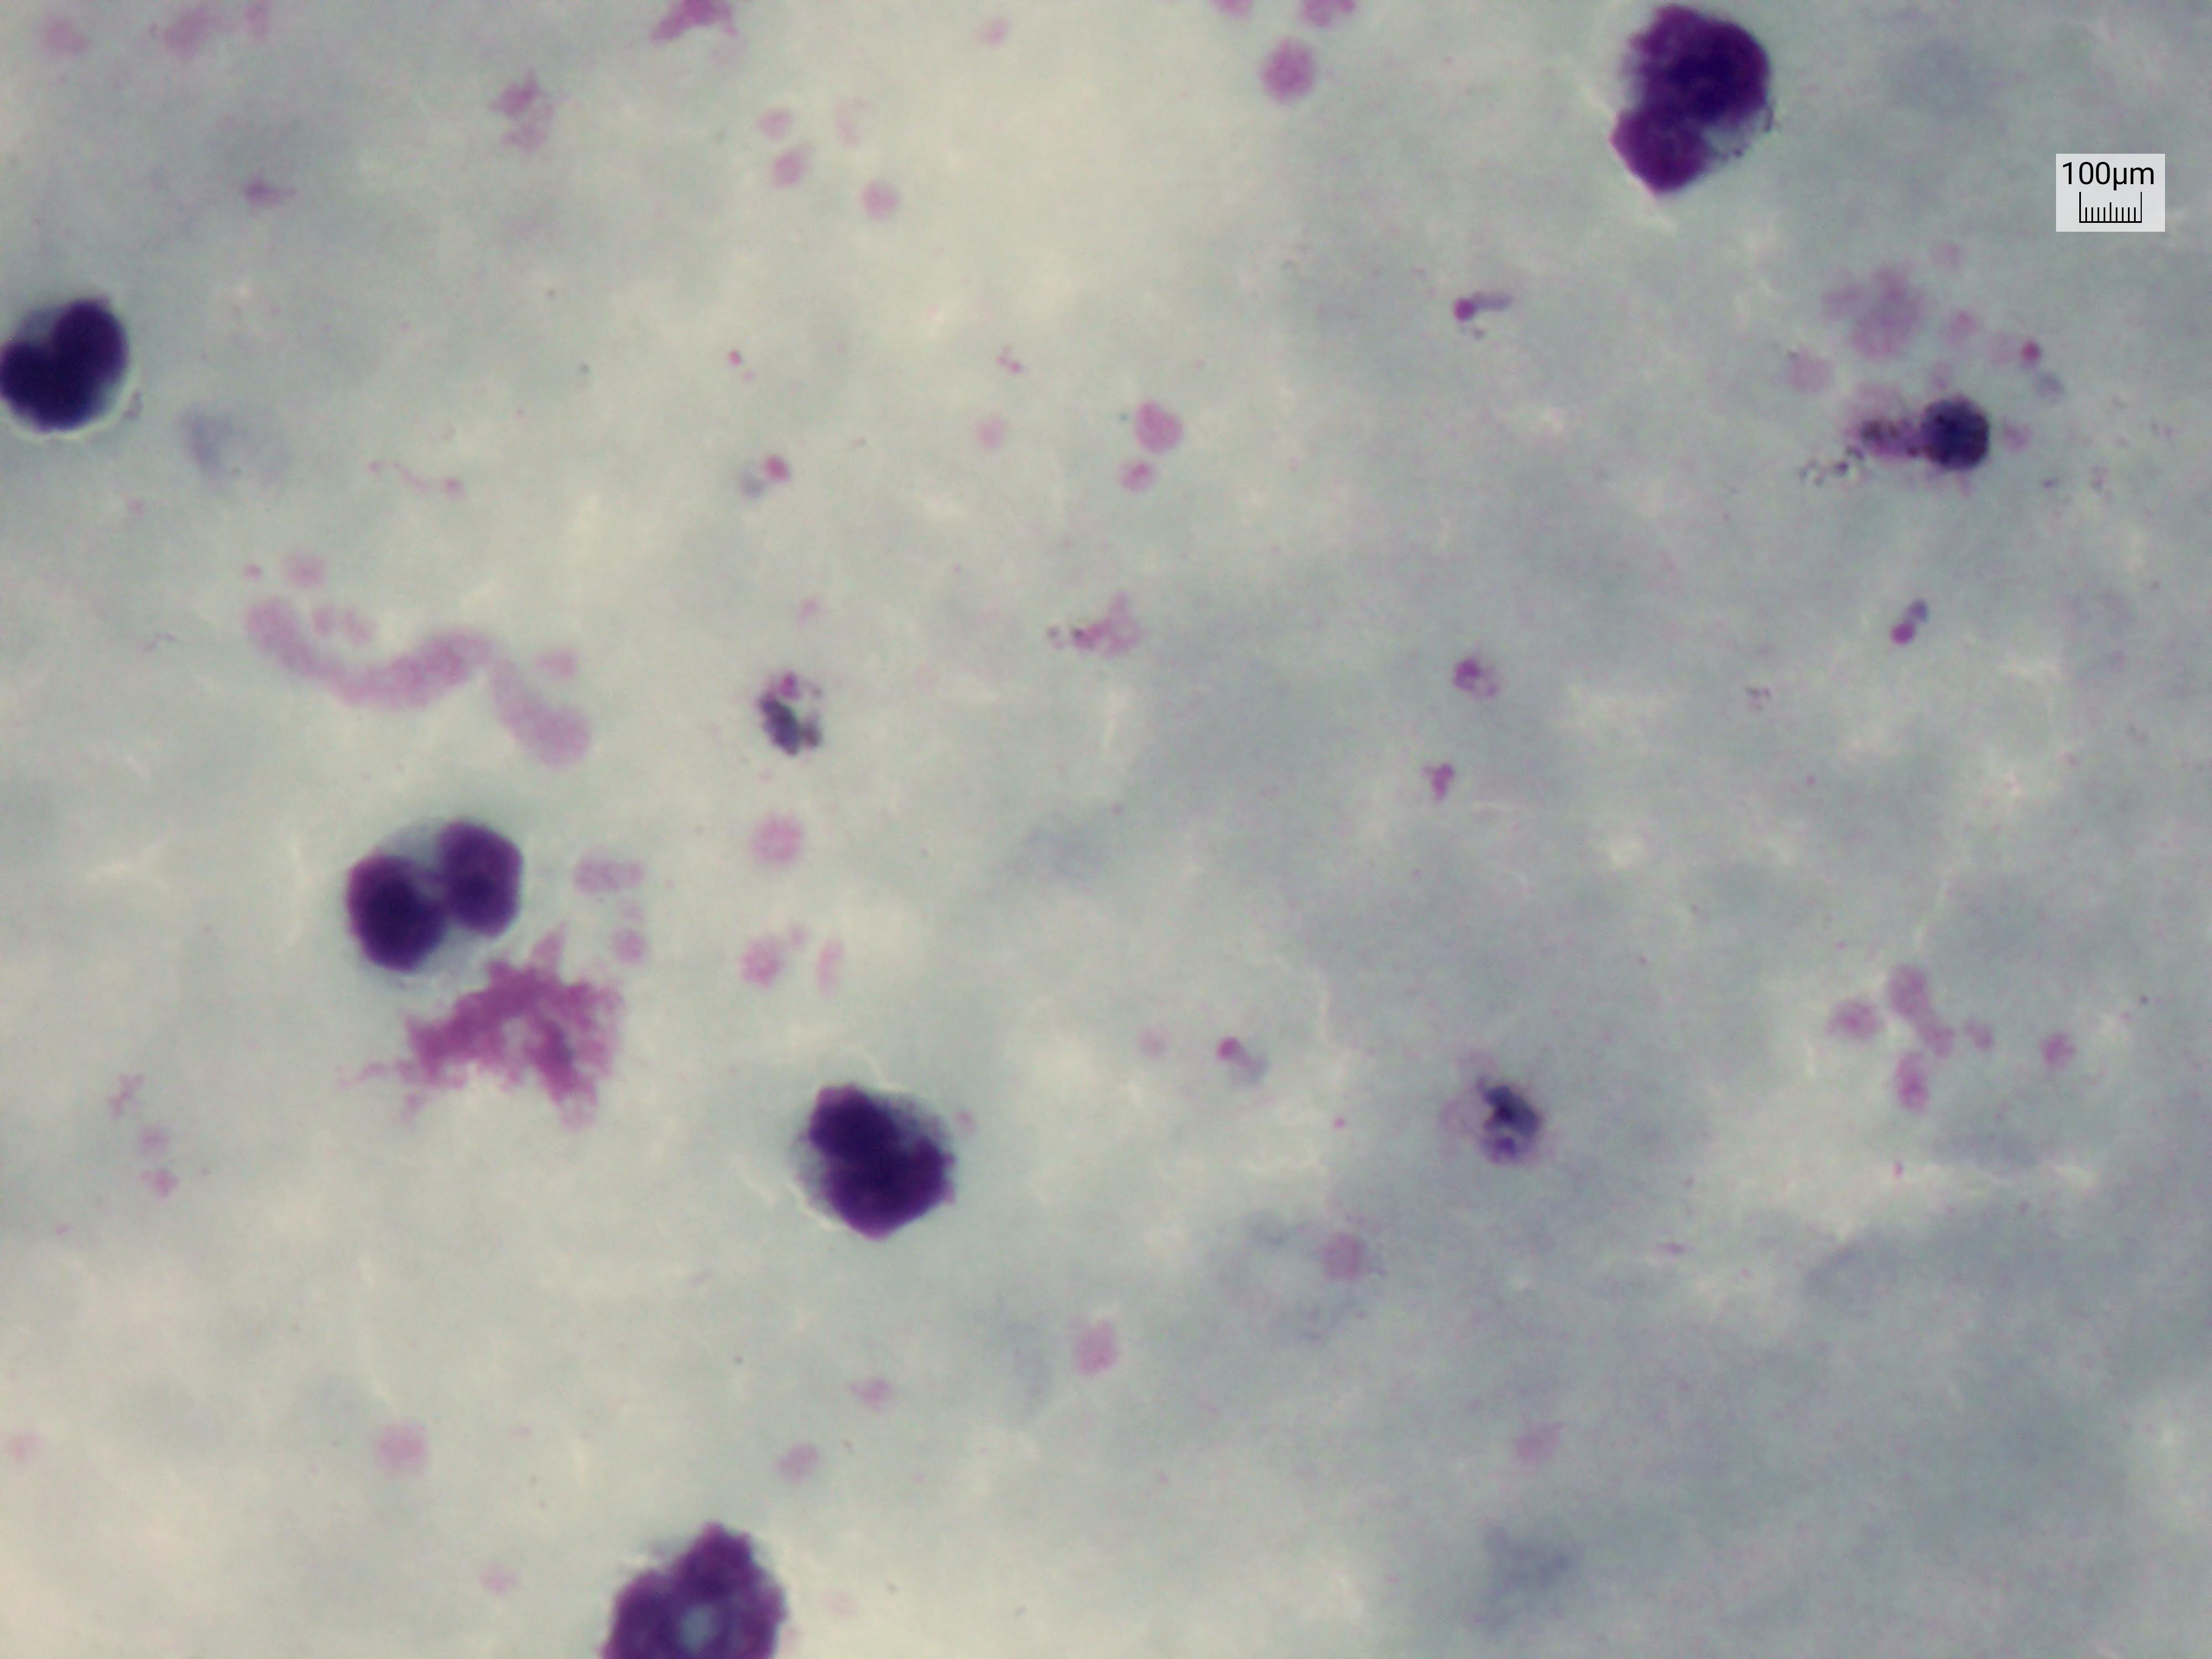p.vivax: (1426, 1040, 1578, 1208), (1825, 375, 2013, 505), (730, 648, 838, 788), (1183, 1018, 1301, 1119), (1860, 570, 1956, 688), (725, 423, 805, 535), (1439, 263, 1526, 364)
